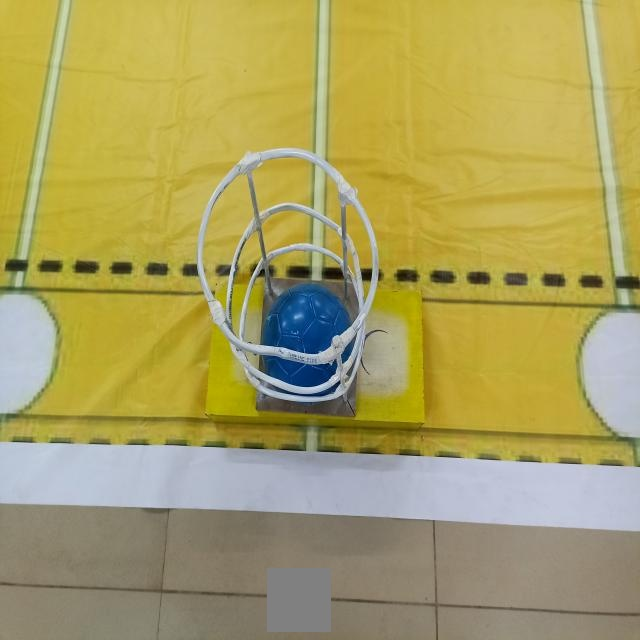blue_ball: (262, 282, 355, 391)
silo: (196, 145, 382, 422)
